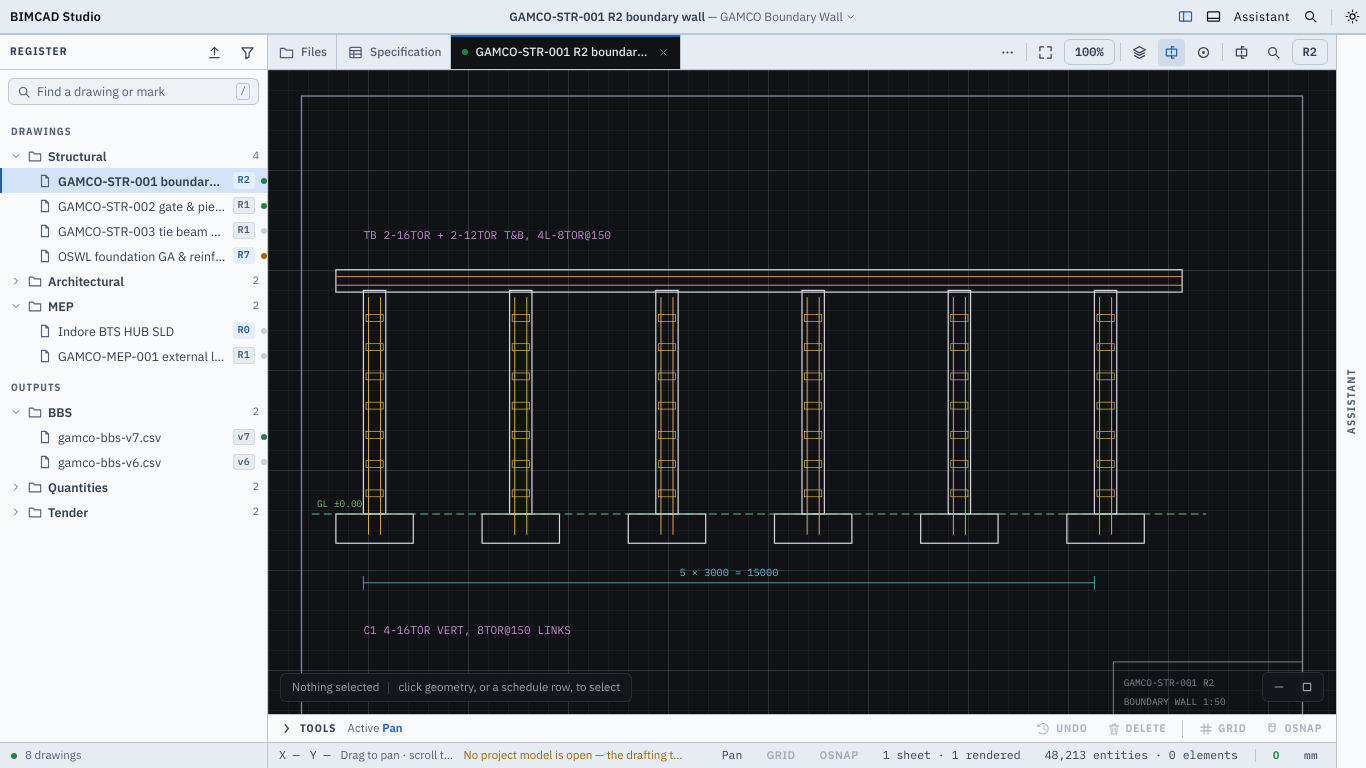
Test: the dock tab strip with a drawing open › Library, Specification and Log each open their own panel, not a drawer inside Ask
Click the button with test id "toggle-assistant" at point(1262, 16), box [1234,4,1290,28]
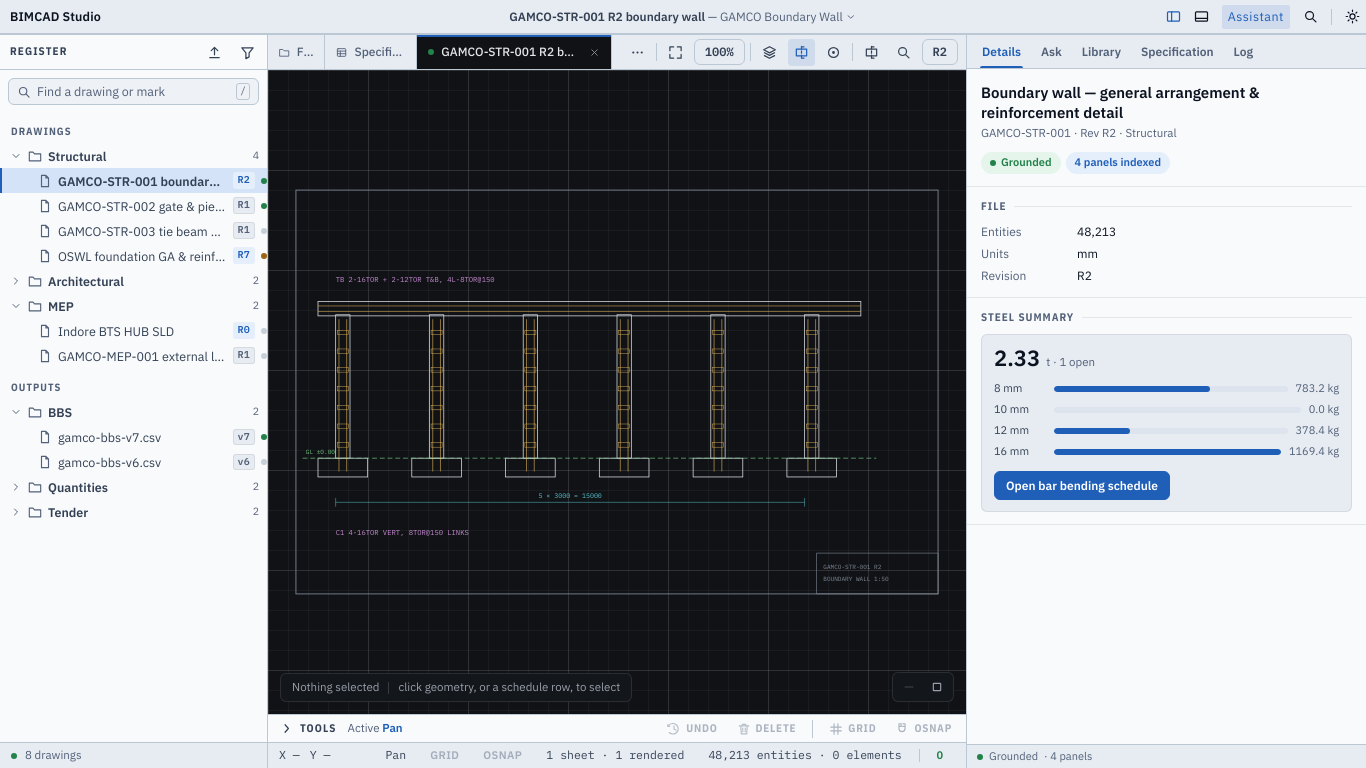
Click the tab "Library" at point(1101, 52), box [1073,35,1130,68]
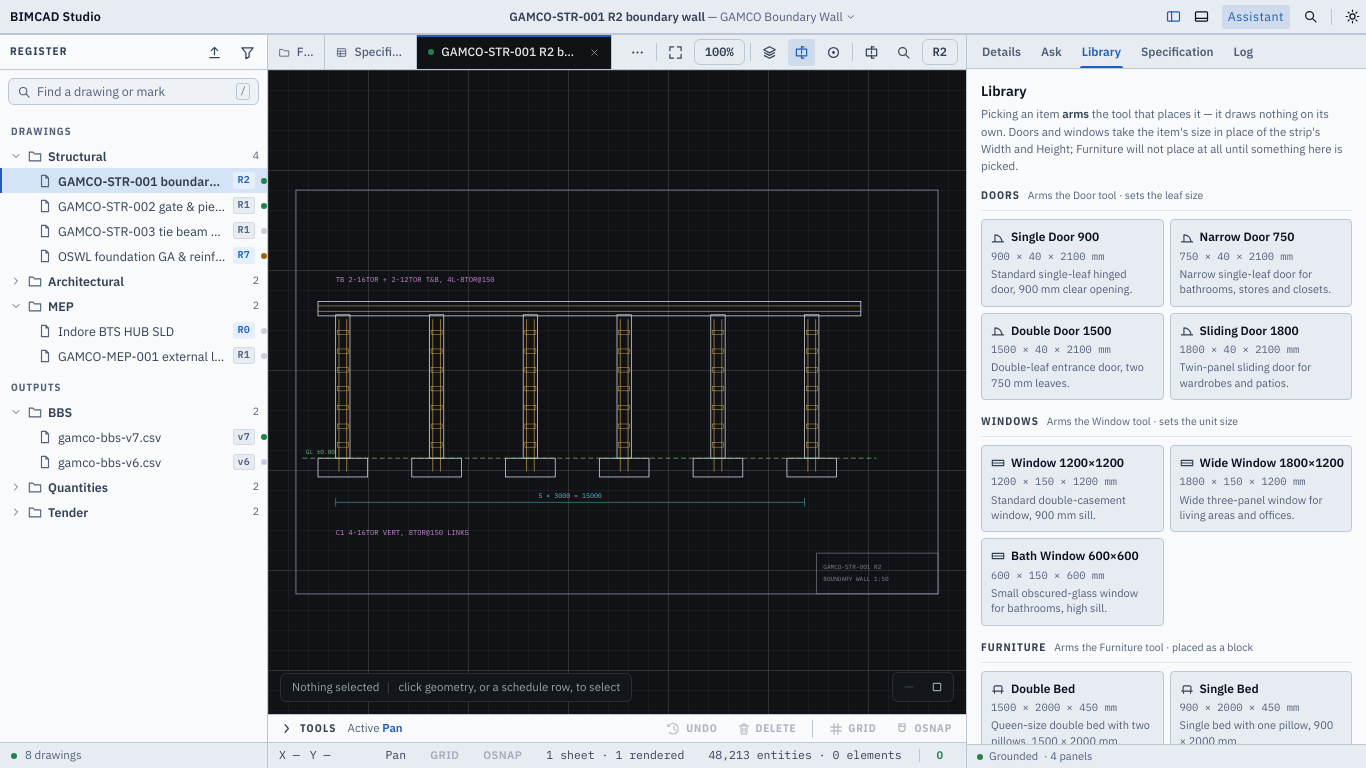
Click the tab "Specification" at point(1177, 52), box [1132,35,1222,68]
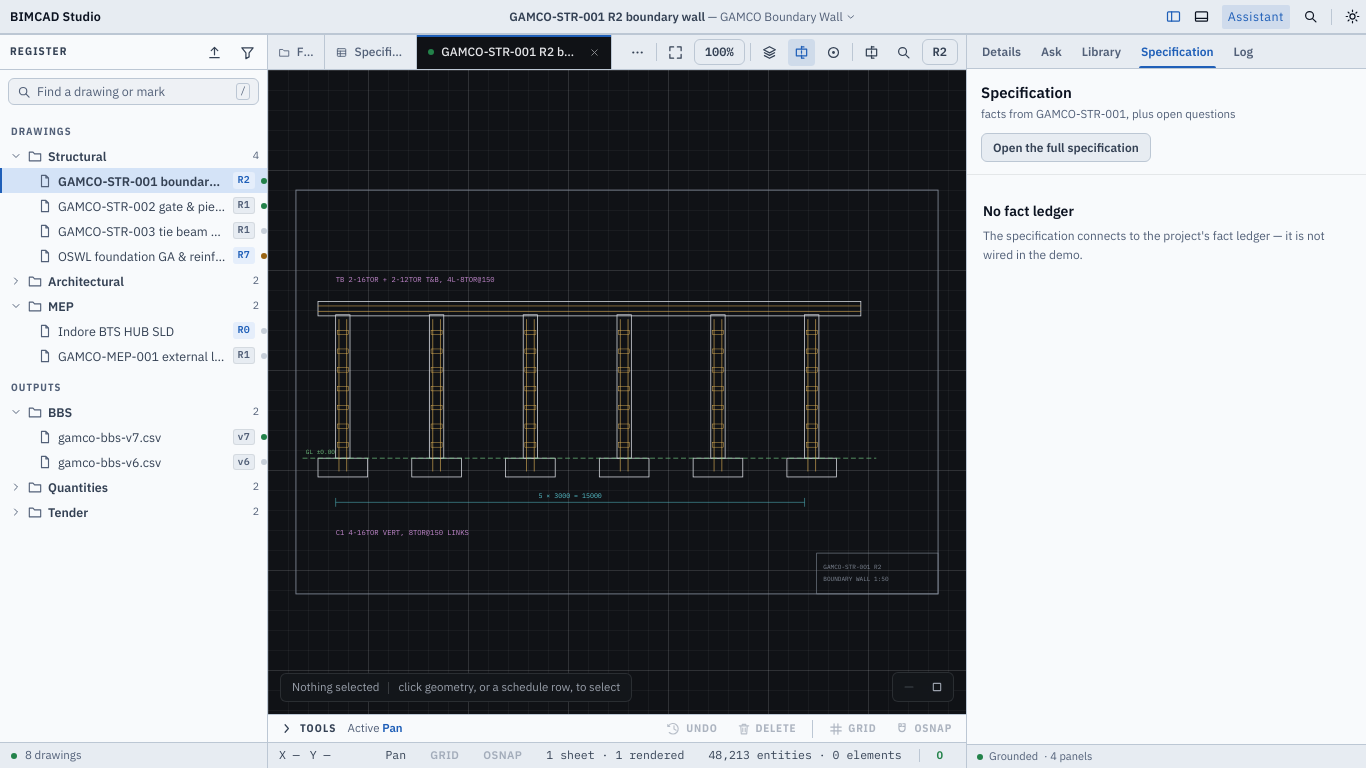
Now the panel with test id "memory-panel" is shown, box [967,69,1365,311]
Click the tab "Log" at point(1243, 52), box [1224,35,1262,68]
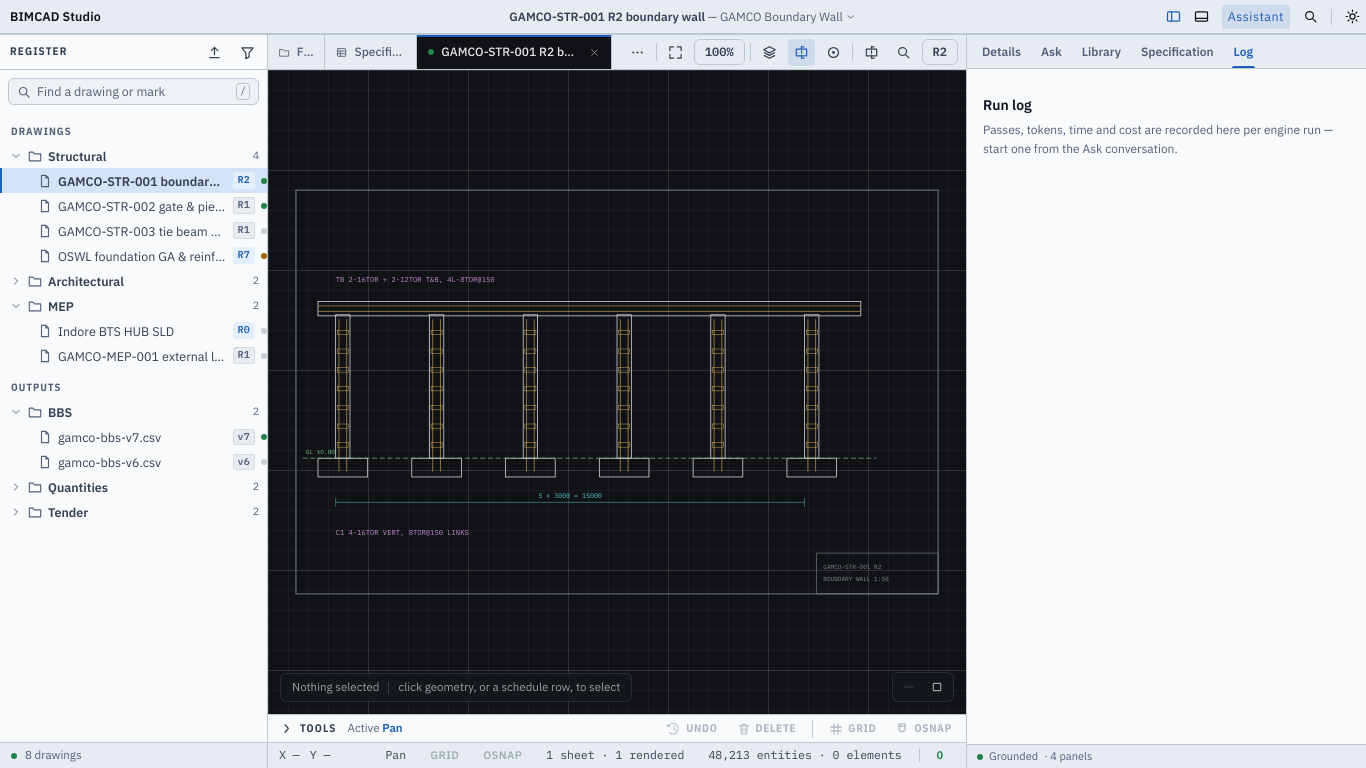
Now the panel with test id "log-panel" is shown, box [983,96,1333,156]
